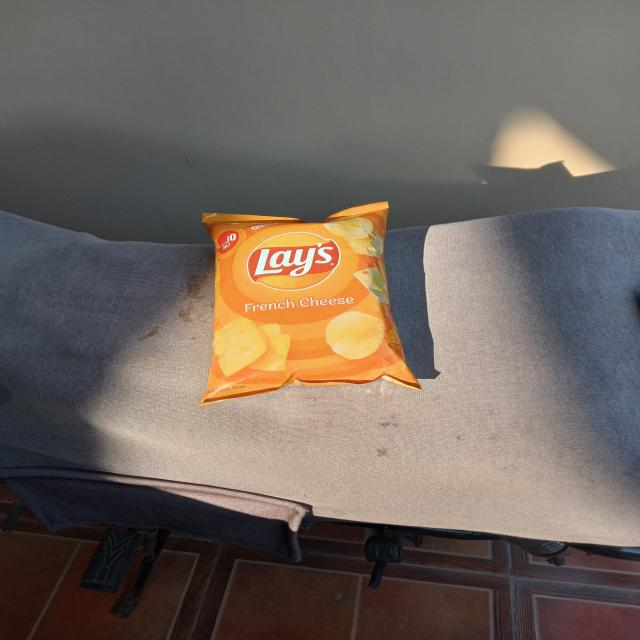Plastic: (188, 197, 428, 408)
